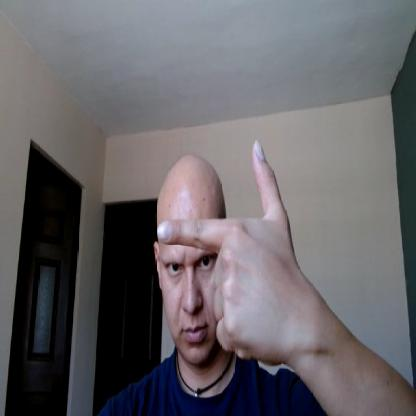G: (156, 142, 297, 360)
